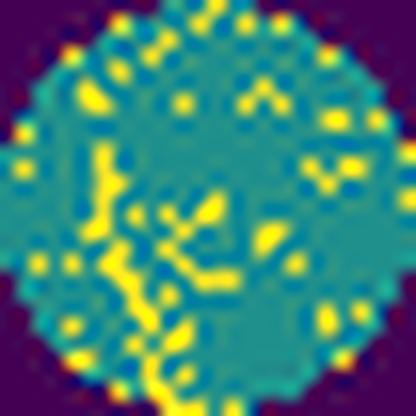Scratch: (75, 135, 166, 339)
